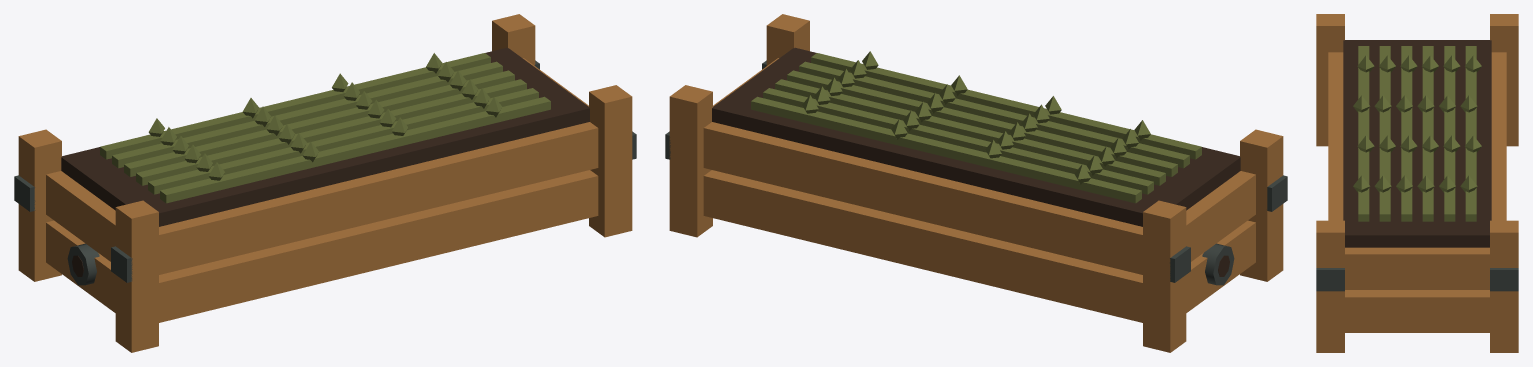
File: Raised-Bed.glb
3 renders of one model, left to right at view 1: azimuth 30°, elevation 25°; view 2: azimuth 150°, elevation 25°; view 3: azimuth 270°, elevation 25°, orthographic. The views are drawn at different scales.
Parts seen in each view (by area): view 1: hand-pump-static-raised-bed-honey-timber-mat, hand-pump-static-raised-bed-muted-seedling-mat, hand-pump-static-raised-bed-dark-soil-mat, hand-pump-static-raised-bed-dark-bracket-mat; view 2: hand-pump-static-raised-bed-honey-timber-mat, hand-pump-static-raised-bed-muted-seedling-mat, hand-pump-static-raised-bed-dark-soil-mat, hand-pump-static-raised-bed-dark-bracket-mat; view 3: hand-pump-static-raised-bed-honey-timber-mat, hand-pump-static-raised-bed-dark-soil-mat, hand-pump-static-raised-bed-muted-seedling-mat, hand-pump-static-raised-bed-dark-bracket-mat.
Boxes of the visible parts, x1,y1,x2,y2 form: hand-pump-static-raised-bed-honey-timber-mat: (18,14,632,352); hand-pump-static-raised-bed-muted-seedling-mat: (100,53,550,203); hand-pump-static-raised-bed-dark-soil-mat: (61,47,589,276); hand-pump-static-raised-bed-dark-bracket-mat: (14,60,636,285); hand-pump-static-raised-bed-honey-timber-mat: (669,14,1283,352); hand-pump-static-raised-bed-muted-seedling-mat: (751,51,1201,203); hand-pump-static-raised-bed-dark-soil-mat: (712,47,1240,276); hand-pump-static-raised-bed-dark-bracket-mat: (665,60,1287,285); hand-pump-static-raised-bed-honey-timber-mat: (1316,14,1518,352); hand-pump-static-raised-bed-dark-soil-mat: (1343,40,1491,247); hand-pump-static-raised-bed-muted-seedling-mat: (1353,46,1481,221); hand-pump-static-raised-bed-dark-bracket-mat: (1316,268,1518,291).
Bounding box in the file's own units: 3.34 × 0.897 × 1.28.
